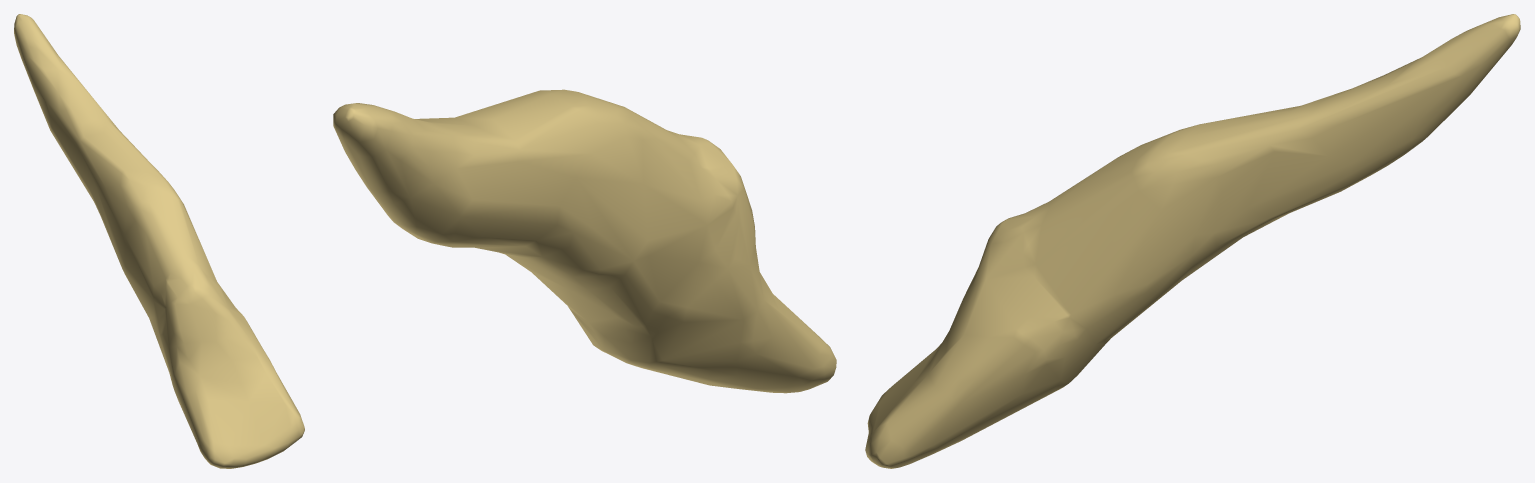
3 renders of one model, left to right at view 1: azimuth 30°, elevation 25°; view 2: azimuth 150°, elevation 25°; view 3: azimuth 270°, elevation 25°, orthographic. The views are drawn at different scales.
Visible parts, largest first — view 1: 左侧下颌中切牙; view 2: 左侧下颌中切牙; view 3: 左侧下颌中切牙.
Boxes of the visible parts, x1,y1,x2,y2 form: 左侧下颌中切牙: (14, 14, 304, 468); 左侧下颌中切牙: (333, 89, 836, 393); 左侧下颌中切牙: (865, 14, 1520, 468).
Size of the model in its own units: 0.00902 by 0.0264 by 0.0364.
